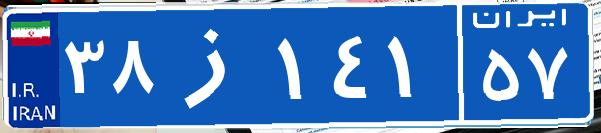1: (385, 28, 445, 110), (273, 28, 330, 110)
3: (57, 26, 110, 107)
4: (330, 28, 385, 110)
5: (475, 38, 525, 113)
7: (525, 38, 570, 115)
8: (110, 28, 158, 105)
ز: (158, 15, 273, 115)
